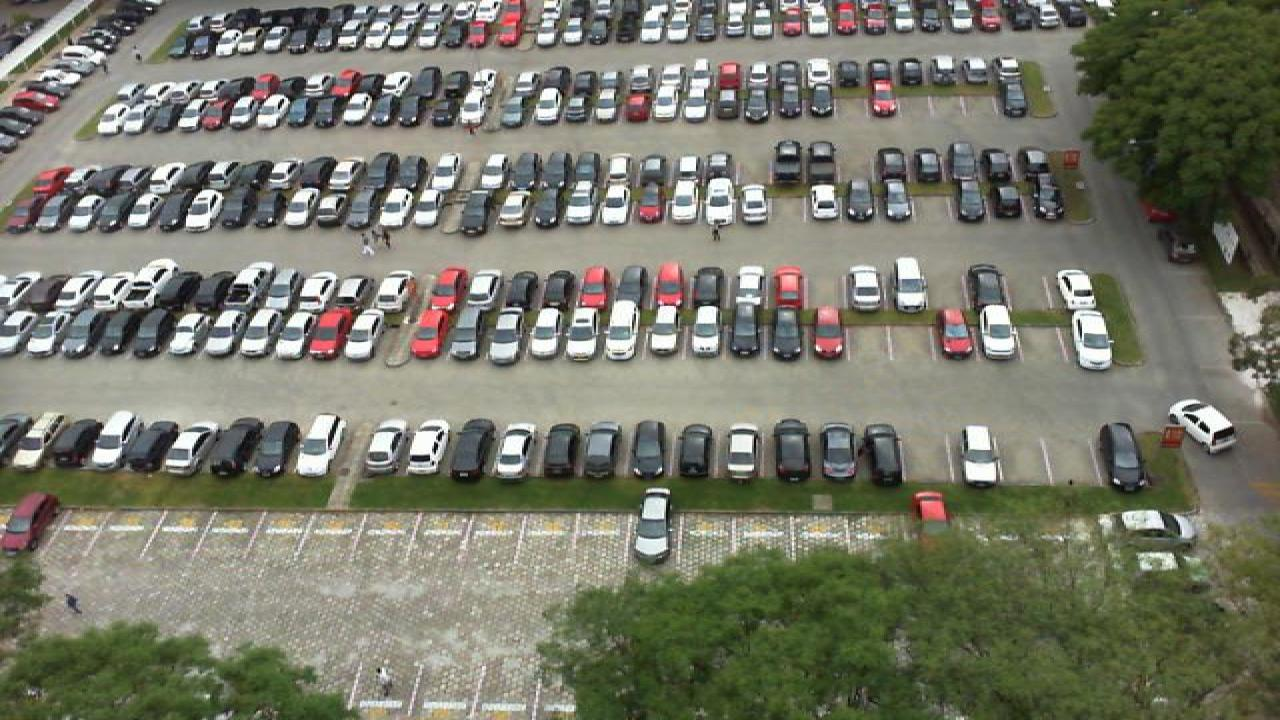Car: (1166, 398, 1238, 456), (0, 490, 60, 554), (8, 411, 70, 472), (1094, 420, 1148, 490), (206, 416, 266, 477), (630, 487, 674, 565), (294, 413, 348, 476), (84, 410, 140, 469), (160, 416, 216, 474), (122, 414, 176, 472), (364, 416, 414, 476), (860, 422, 906, 487), (1070, 306, 1116, 370), (1112, 507, 1198, 541), (122, 258, 178, 310), (450, 417, 496, 480), (122, 305, 174, 359), (46, 307, 100, 359), (768, 418, 812, 481), (408, 418, 454, 478), (50, 416, 102, 469), (8, 306, 60, 358), (960, 423, 1002, 486), (252, 417, 300, 472), (86, 306, 136, 358), (162, 306, 210, 359), (628, 420, 668, 483), (482, 306, 524, 366), (910, 492, 960, 542), (818, 420, 858, 482), (494, 420, 536, 479), (304, 306, 350, 359), (540, 422, 582, 480), (976, 304, 1018, 362), (232, 307, 278, 359), (268, 307, 312, 360), (406, 306, 450, 358), (338, 308, 382, 360), (198, 306, 242, 358), (584, 420, 624, 477), (726, 302, 766, 358), (724, 424, 762, 482), (602, 303, 640, 361), (808, 305, 848, 360), (684, 302, 724, 356), (644, 304, 684, 358), (676, 422, 714, 478), (526, 305, 564, 361), (1056, 269, 1102, 315), (178, 187, 224, 233), (42, 190, 90, 234), (146, 187, 192, 232), (110, 190, 158, 233), (938, 305, 976, 359), (564, 305, 602, 359), (6, 192, 56, 233), (890, 256, 926, 312), (78, 191, 126, 233), (446, 307, 484, 360), (212, 187, 256, 232), (766, 305, 804, 357), (844, 264, 884, 313), (768, 265, 808, 314), (966, 264, 1008, 310), (90, 271, 136, 312), (228, 261, 268, 308), (188, 270, 234, 310), (24, 272, 70, 312), (374, 186, 414, 232), (340, 186, 380, 232), (700, 181, 734, 235), (458, 187, 496, 235), (244, 189, 286, 231), (336, 268, 376, 312), (58, 270, 102, 310), (308, 187, 348, 231), (430, 266, 468, 312), (262, 267, 304, 308), (562, 181, 596, 231), (690, 266, 728, 310), (154, 269, 198, 307), (410, 187, 448, 231), (278, 187, 316, 231), (732, 264, 768, 310), (528, 184, 562, 231), (494, 186, 528, 232), (986, 178, 1022, 221), (302, 270, 340, 310), (654, 261, 686, 308), (580, 264, 614, 308), (1032, 178, 1066, 222), (736, 182, 770, 226), (632, 182, 666, 226), (542, 268, 578, 309), (374, 272, 410, 313), (616, 264, 648, 310), (600, 180, 632, 226), (470, 270, 504, 312), (844, 178, 876, 222), (506, 269, 540, 310), (946, 176, 976, 222), (0, 310, 28, 359), (668, 180, 698, 225), (808, 182, 840, 221), (0, 274, 34, 310), (910, 181, 938, 223)
